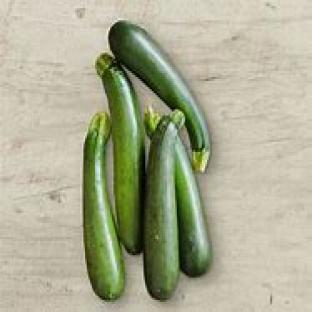Zucchini: (109, 21, 210, 172), (96, 53, 145, 253), (84, 114, 125, 299), (144, 112, 183, 299), (176, 138, 211, 275)
